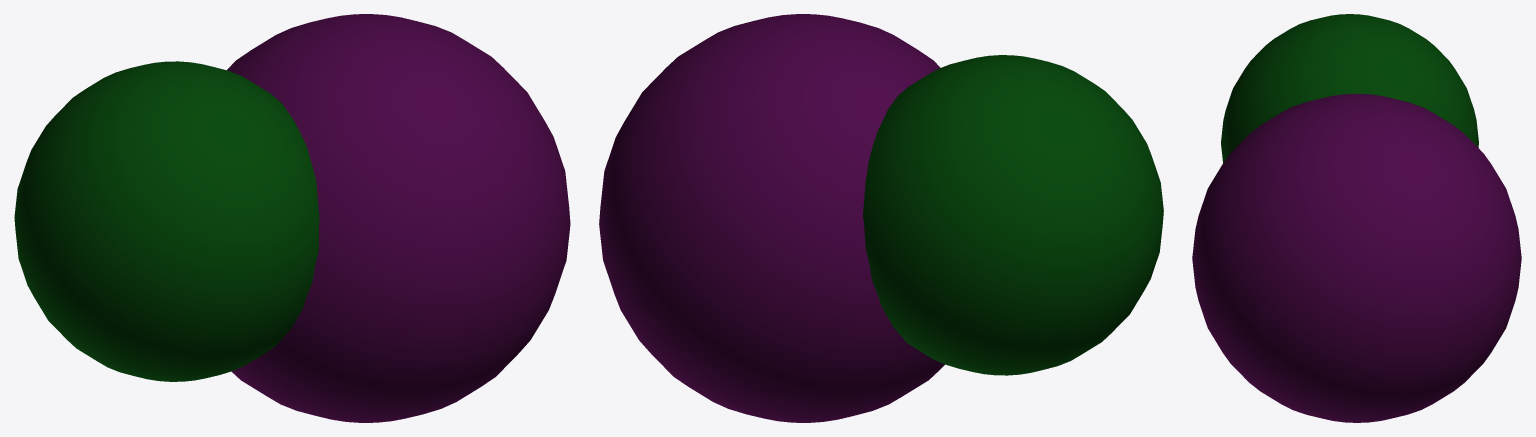
Rendered from NACL.FBX.
The picture shows the model from 3 angles, left to right: view 1: azimuth 30°, elevation 25°; view 2: azimuth 150°, elevation 25°; view 3: azimuth 270°, elevation 25°; orthographic projection. The views are drawn at different scales.
Visible parts, largest first — view 1: Sphere004, Sphere003; view 2: Sphere004, Sphere003; view 3: Sphere004, Sphere003.
Part boxes in pixels (bbox=[...]): Sphere004: bbox=[227, 14, 570, 422]; Sphere003: bbox=[14, 61, 319, 381]; Sphere004: bbox=[599, 14, 944, 422]; Sphere003: bbox=[863, 55, 1163, 375]; Sphere004: bbox=[1192, 93, 1521, 422]; Sphere003: bbox=[1221, 14, 1478, 162].
Size of the model in its own units: 26.27 by 18.56 by 18.19.
